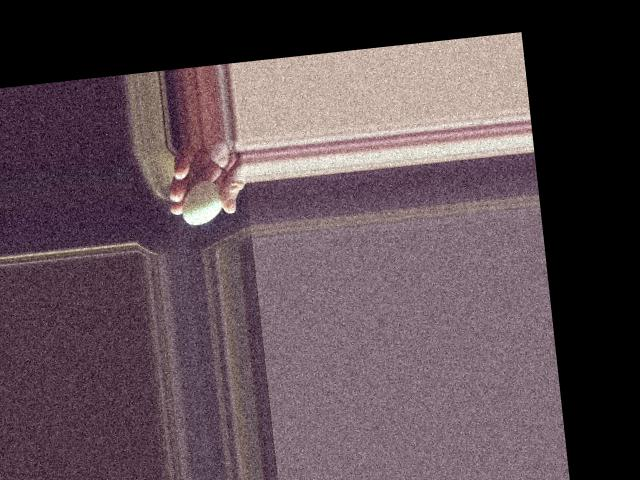egg: (179, 179, 224, 226)
